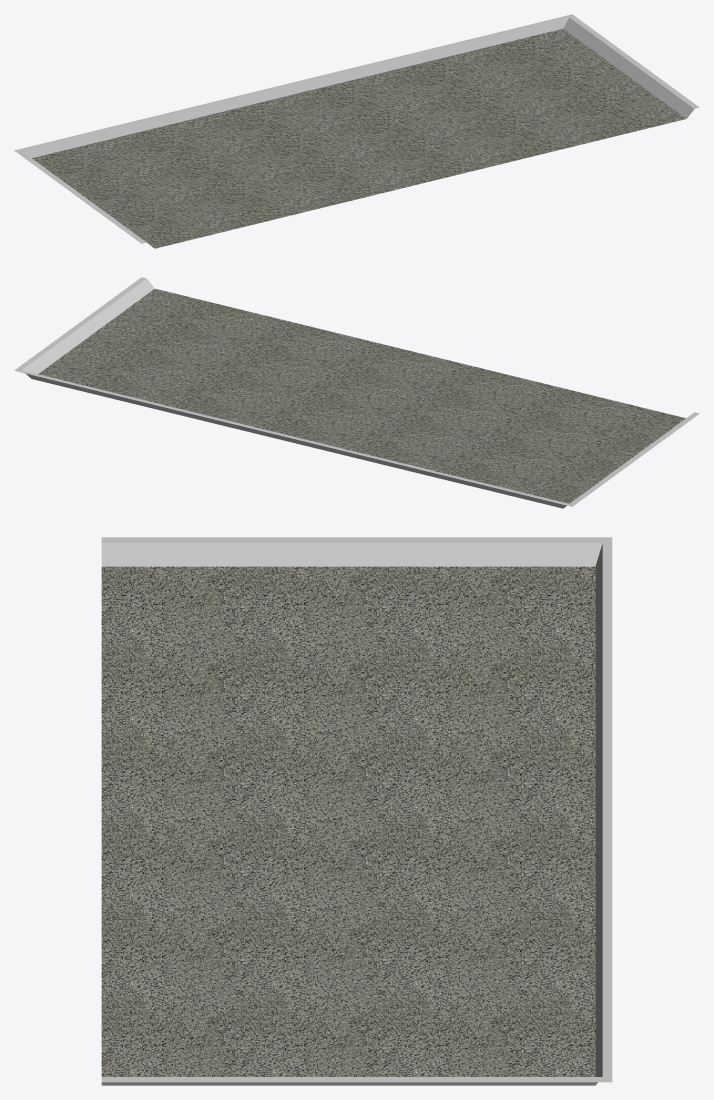
Rendered from Building_06_Roof.fbx.
3 views of the same model, one above another, from view 1: azimuth 30°, elevation 25°; view 2: azimuth 150°, elevation 25°; view 3: azimuth 270°, elevation 25° (orthographic). The views are drawn at different scales.
Visible parts, largest first — view 1: Building_06_Roof; view 2: Building_06_Roof; view 3: Building_06_Roof.
Boxes of the visible parts, x1=… form: Building_06_Roof: x1=14, y1=14, x2=699, y2=248; Building_06_Roof: x1=14, y1=277, x2=699, y2=508; Building_06_Roof: x1=101, y1=537, x2=612, y2=1085.
Size of the model in its own units: 1773 by 24.52 by 702.
